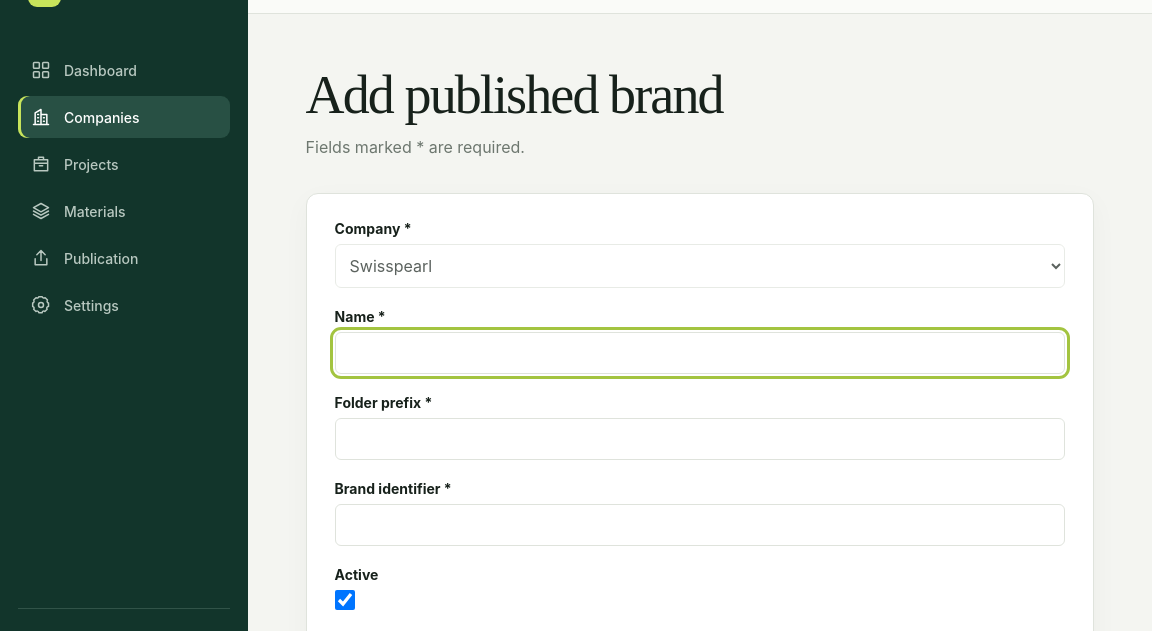
it: HTTP forms › creates a published brand owned by the route company without a sequence counter
This screenshot has width=1152, height=631.
Expected: the dropdown labelled "Company *" is disabled, [335,244,1065,288]
Expected: the dropdown labelled "Company *" shows "Swisspearl", [335,244,1065,288]
Type "New brand" into the field labelled "Name *" at x=700, y=353, box [335,332,1065,374]
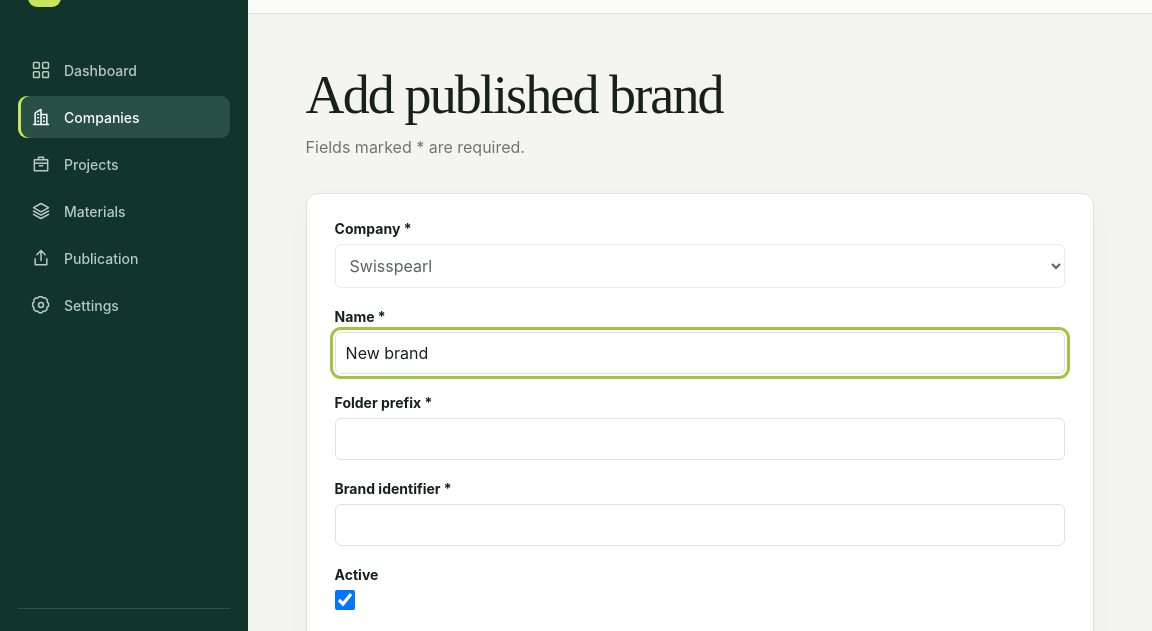
Type "NEW" into the field labelled "Folder prefix *" at x=700, y=439, box [335,418,1065,460]
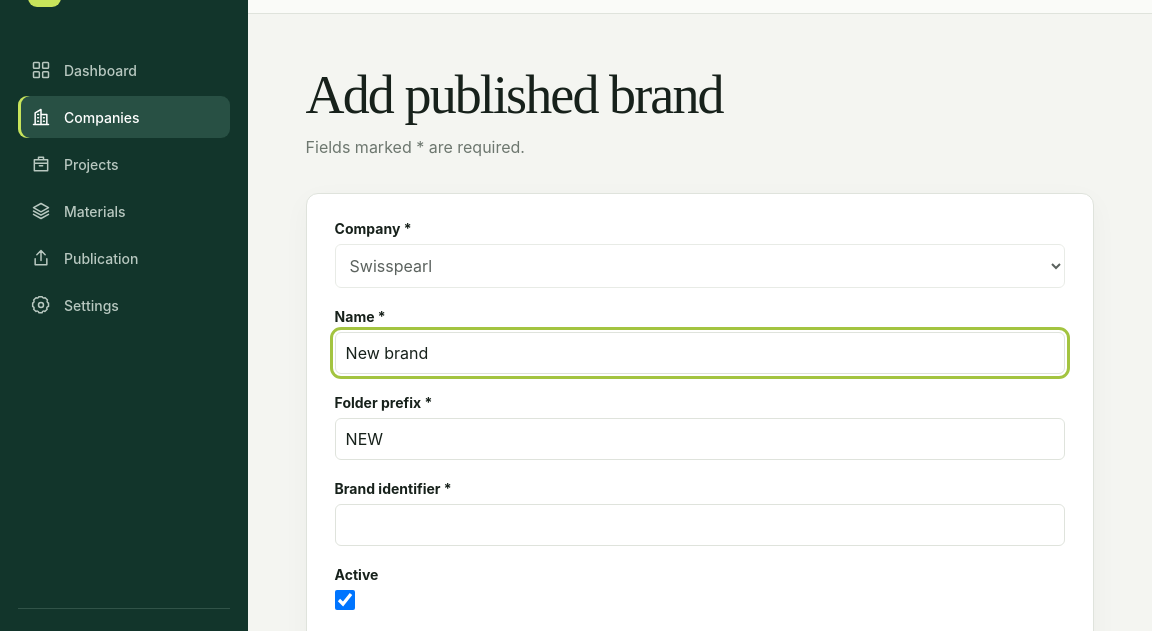
Type "new-brand" into the field labelled "Brand identifier *" at x=700, y=525, box [335,504,1065,546]
(page scrolled)
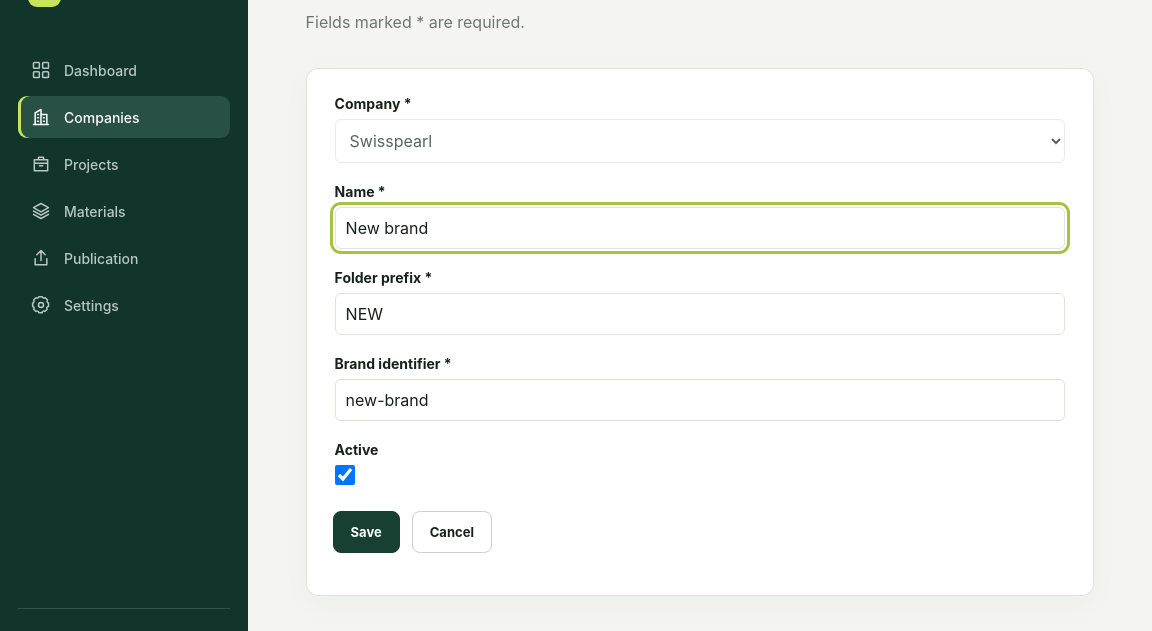
Click the button "Save" at x=366, y=532, box [333,511,400,553]
(page scrolled)
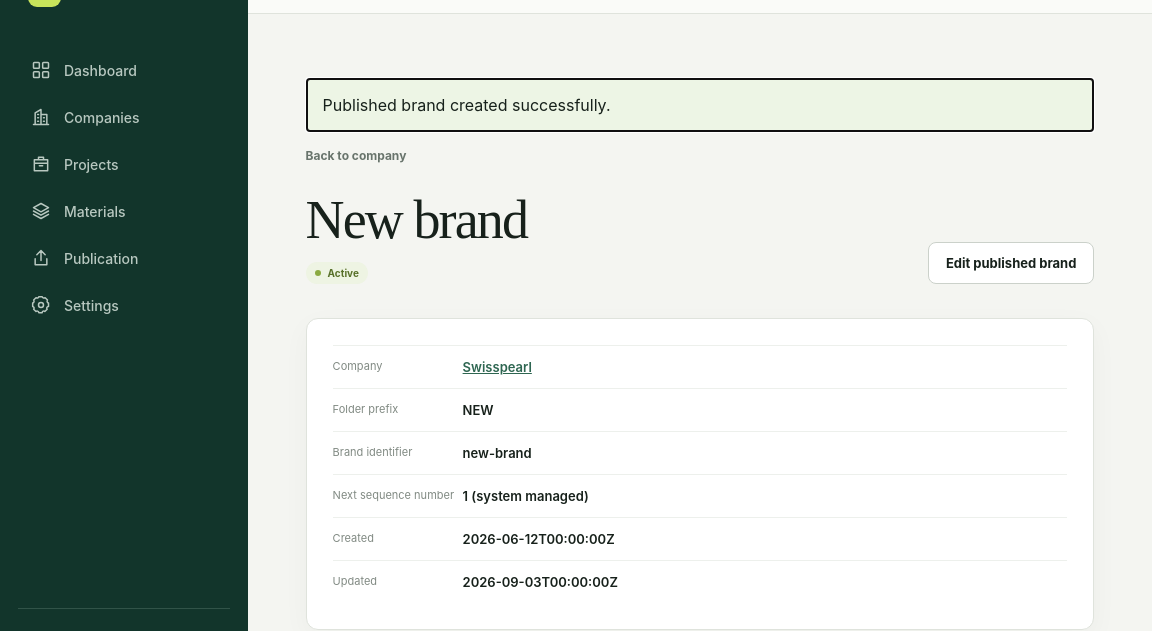
Expected: the heading "New brand" is shown, [306,189,527,251]
